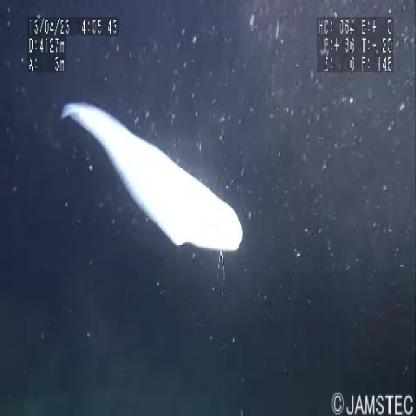Bio: (59, 92, 246, 286)
